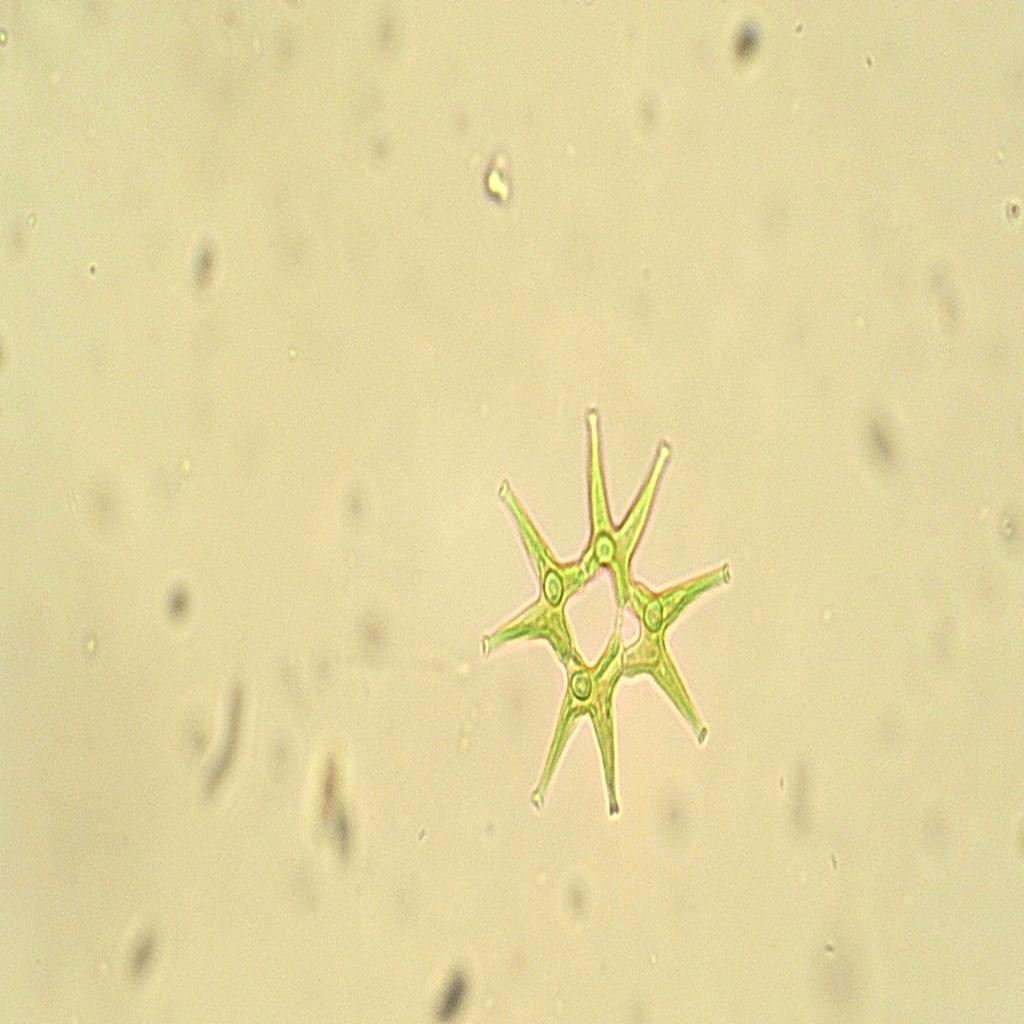Pediastrum_75FO: (464, 386, 748, 828)
